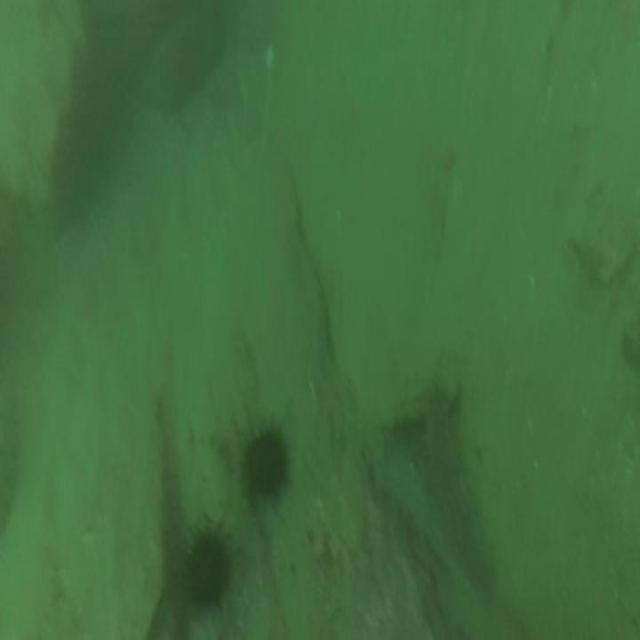echinus: (177, 517, 235, 618), (238, 414, 292, 507)
